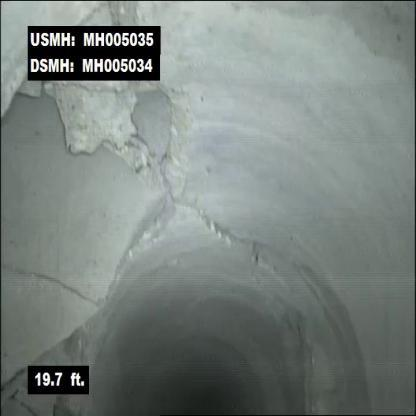crack: (180, 182, 285, 305)
